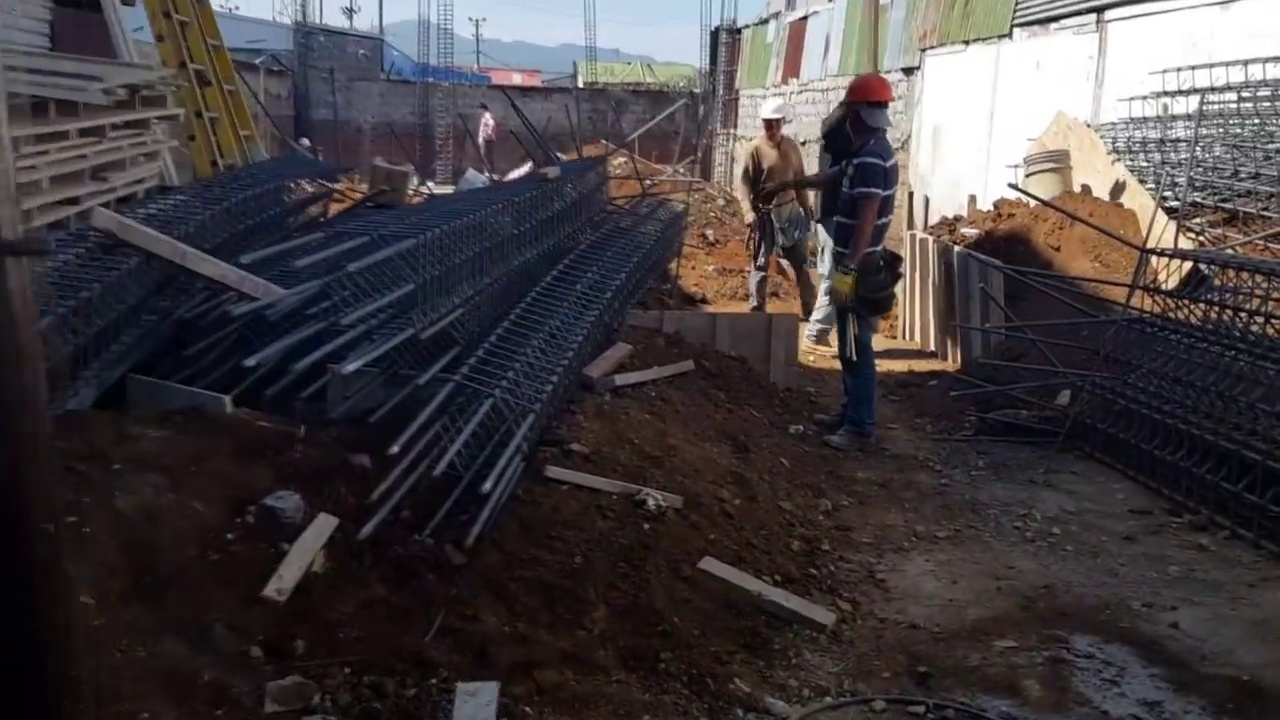helmet: (843, 72, 898, 109), (758, 95, 789, 117)
helmet-off: (474, 101, 488, 117)
helmet-on: (841, 70, 899, 147), (757, 94, 791, 145)
person: (820, 70, 903, 457), (742, 92, 821, 322), (474, 100, 497, 182)
